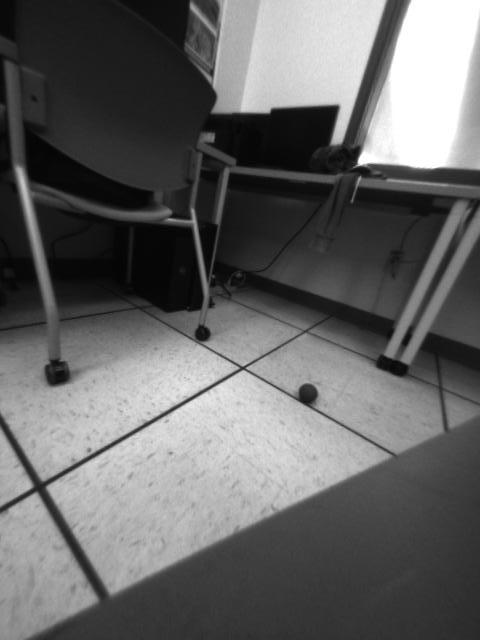dogtoy: (292, 377, 324, 408)
